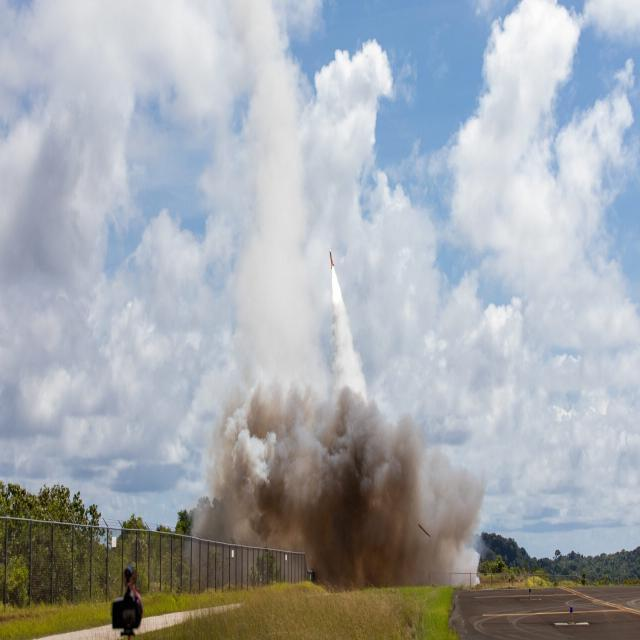Missile: (329, 247, 335, 270)
